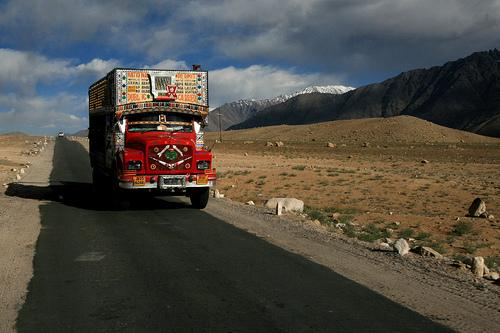truck: (88, 62, 218, 210)
